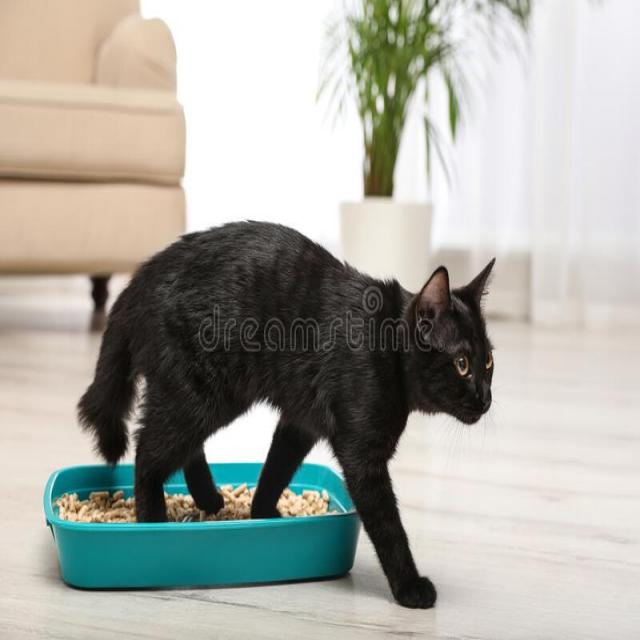black cat: (78, 224, 498, 608)
